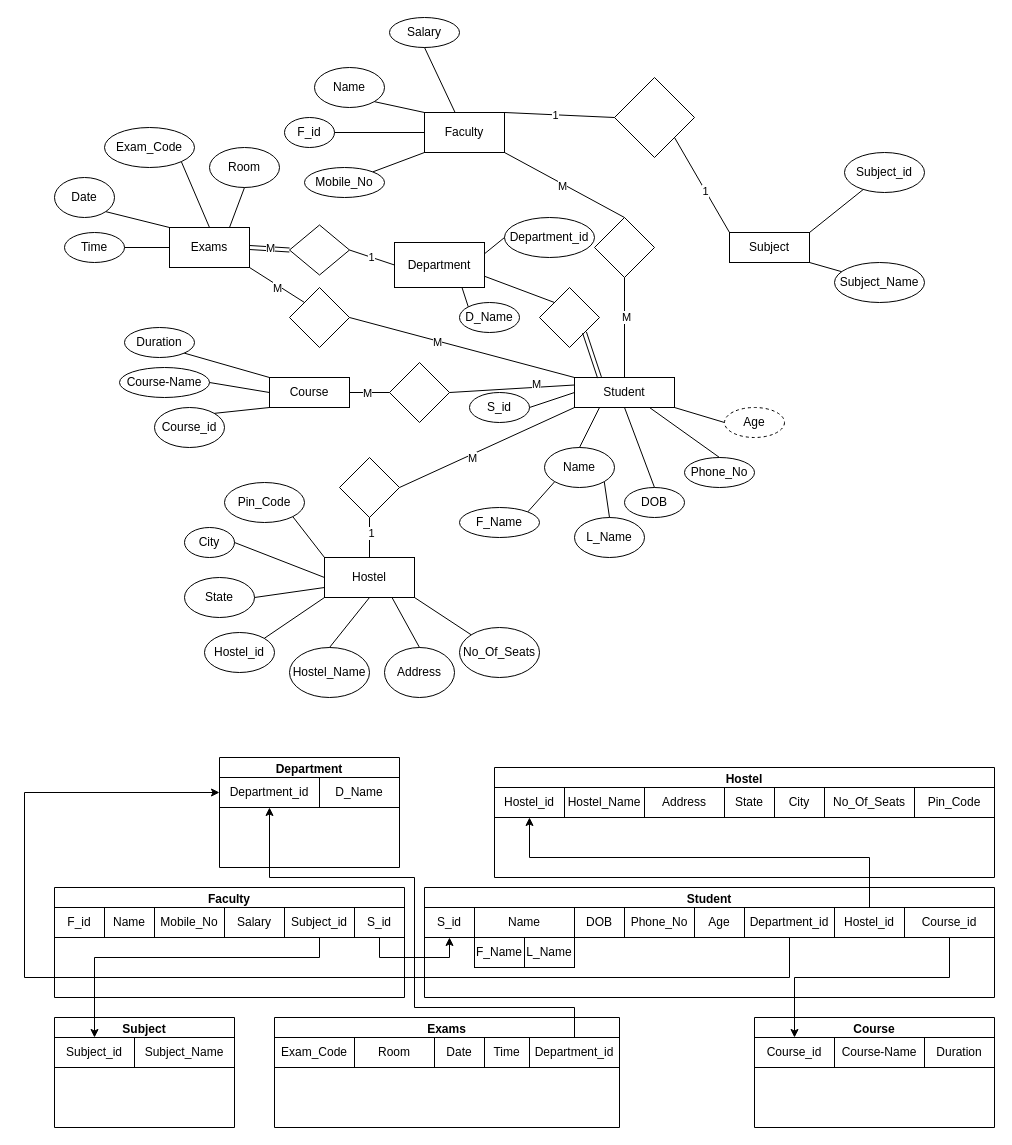
Some shapes in this 1012 by 1145 pixel diagram are drawn without their labels. Here are the shapes that lost their labels. From the top down, the centre of each, then its label:
At (654,117): "Handle".
At (319,249): "Conduct".
At (624,247): "Teach".
At (319,317): "Take".
At (569,317): "Belong".
At (419,392): "Enroll".
At (369,487): "Live".
